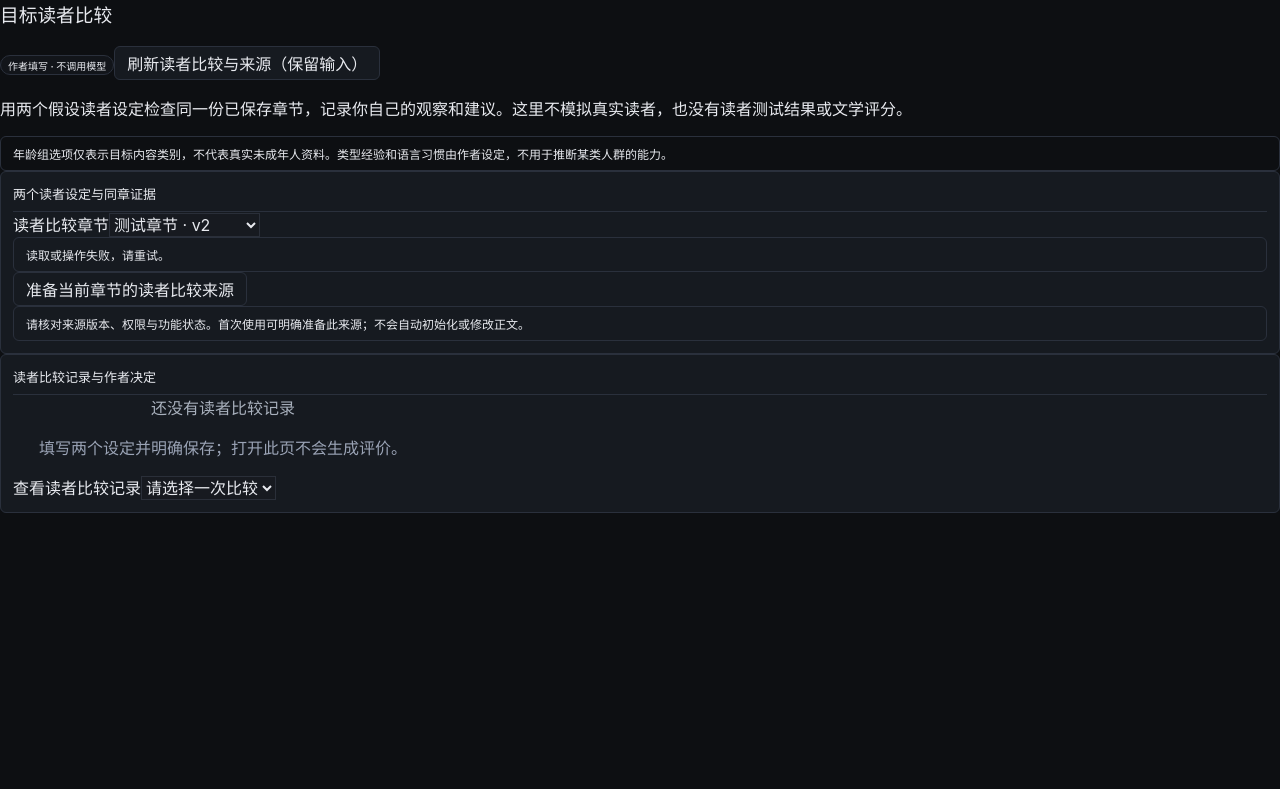
Test case: requires explicit source preparation after unavailable ownership and never auto-prepares
Expected: the message "读取或操作失败，请重试。" is shown, top-left (13, 237), bottom-right (1267, 272)
Click the button "准备当前章节的读者比较来源" at (130, 289), box top-left (13, 272), bottom-right (247, 306)
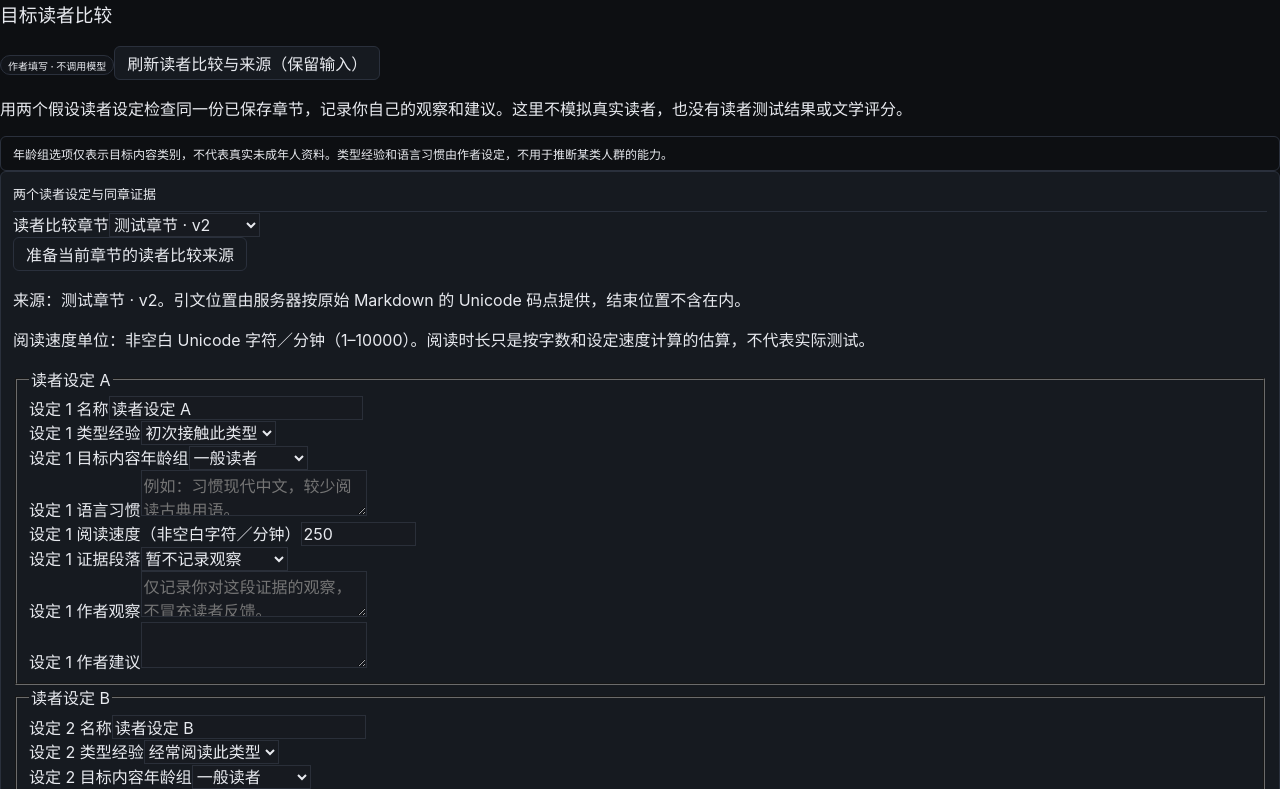
Result: the text box labelled "设定 1 语言习惯" is shown at top-left (140, 470), bottom-right (366, 516)
